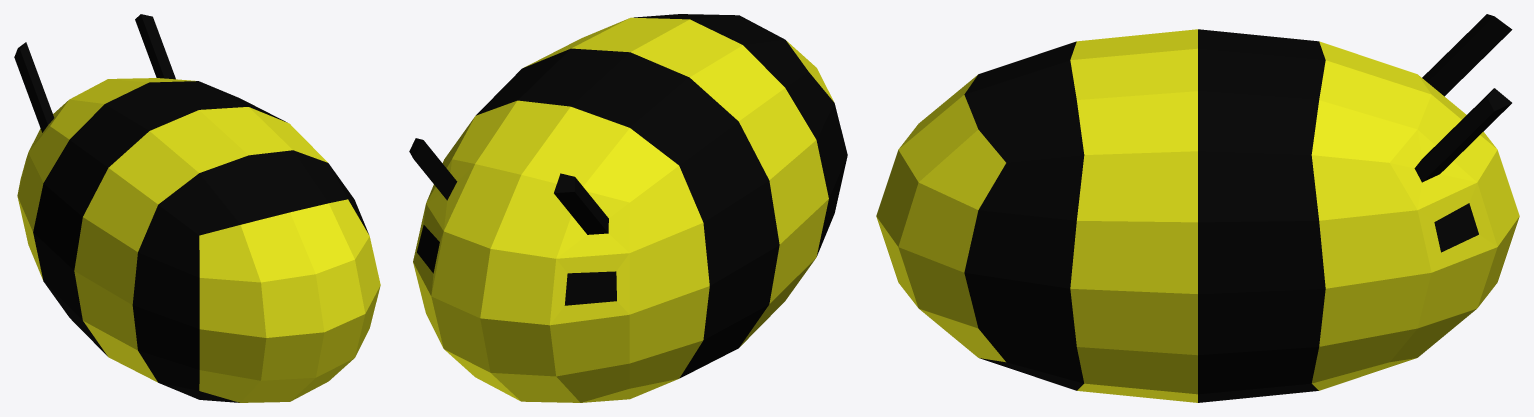
Rendered from TempBee.fbx.
3 views of the same model, side by side, from view 1: azimuth 30°, elevation 25°; view 2: azimuth 150°, elevation 25°; view 3: azimuth 270°, elevation 25° (orthographic). The views are drawn at different scales.
Parts seen in each view (by area): view 1: Cube; view 2: Cube; view 3: Cube.
Boxes of the visible parts, x1,y1,x2,y2 form: Cube: [14, 14, 380, 402]; Cube: [409, 14, 847, 402]; Cube: [876, 14, 1519, 402].
Size of the model in its own units: 1.68 by 2.92 by 1.68.
